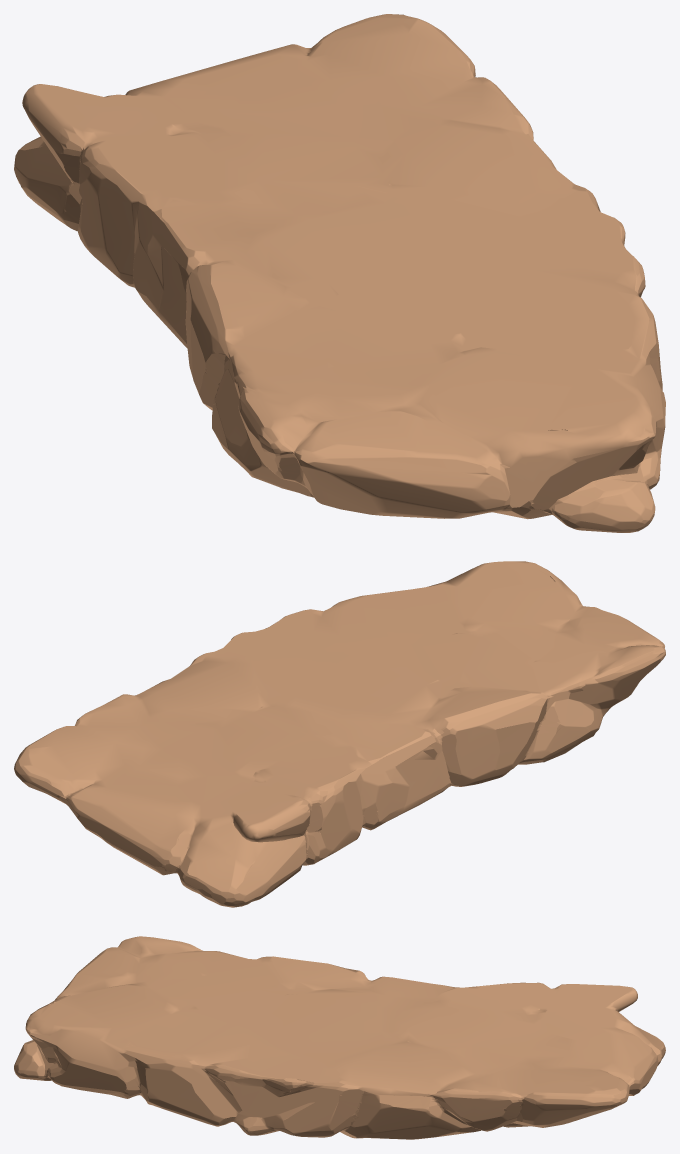
3 renders of one model, top to bottom at view 1: azimuth 30°, elevation 25°; view 2: azimuth 150°, elevation 25°; view 3: azimuth 270°, elevation 25°, orthographic. The views are drawn at different scales.
Visible parts, largest first — view 1: Mesh_62_LOD0; view 2: Mesh_62_LOD0; view 3: Mesh_62_LOD0.
Boxes of the visible parts, x1=… form: Mesh_62_LOD0: x1=14, y1=14, x2=665, y2=532; Mesh_62_LOD0: x1=14, y1=561, x2=665, y2=907; Mesh_62_LOD0: x1=14, y1=936, x2=665, y2=1139.
Size of what is drawn, in the model's own units: 3183 by 648 by 5373.
